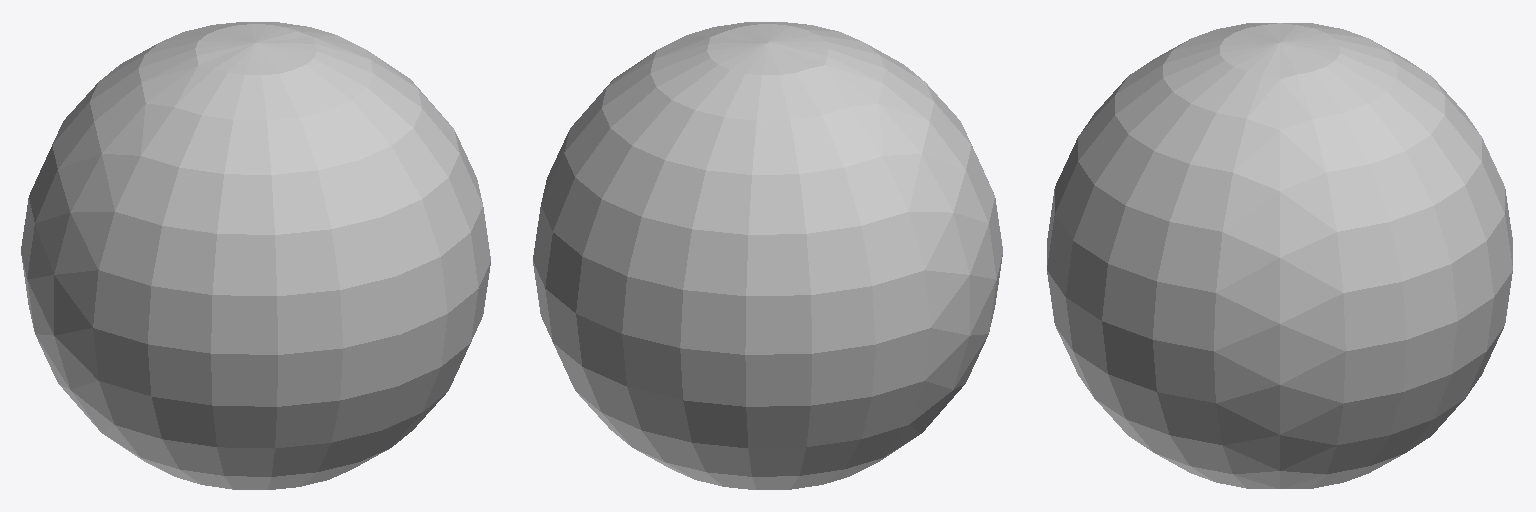
File: wireball.obj
The picture shows the model from 3 angles: view 1: azimuth 30°, elevation 25°; view 2: azimuth 150°, elevation 25°; view 3: azimuth 270°, elevation 25°; orthographic projection.
Parts seen in each view (by area): view 1: 1; view 2: 1; view 3: 1.
Boxes of the visible parts, x1=… form: 1: x1=21, y1=22, x2=490, y2=489; 1: x1=533, y1=22, x2=1002, y2=489; 1: x1=1047, y1=23, x2=1512, y2=488.
Bounding box in the file's own units: 0.9898 × 1 × 0.99.